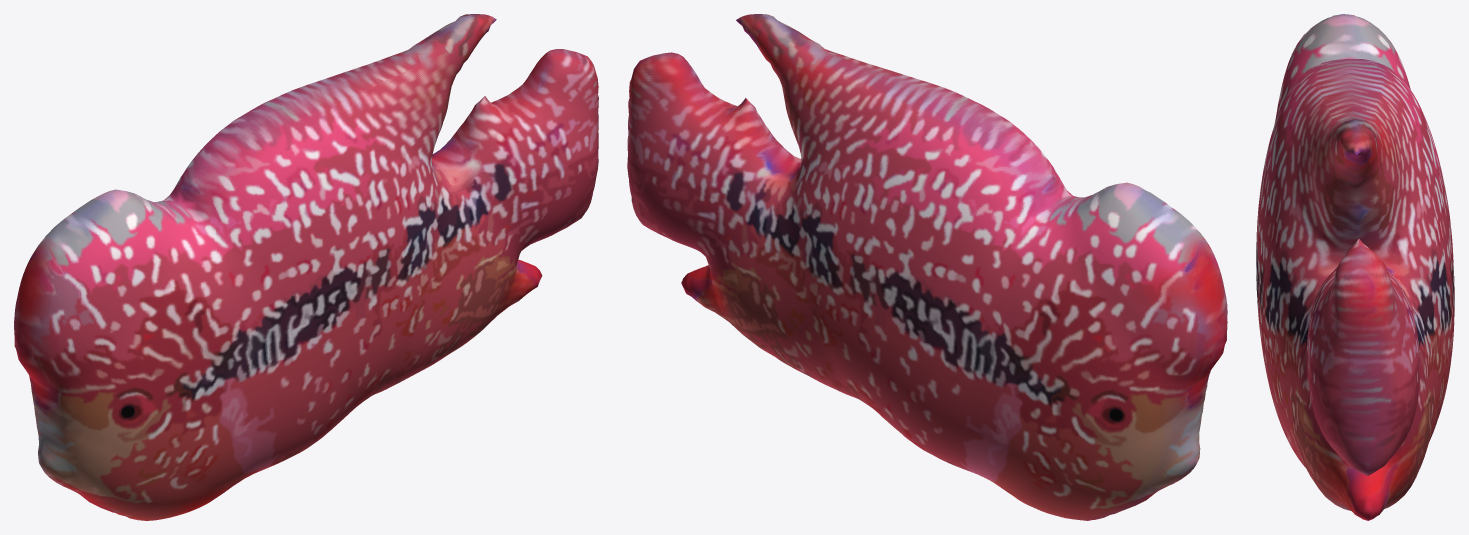
The model's file is 3dfish_1.FBX.
3 renders of one model, left to right at view 1: azimuth 30°, elevation 25°; view 2: azimuth 150°, elevation 25°; view 3: azimuth 270°, elevation 25°, orthographic. The views are drawn at different scales.
Parts seen in each view (by area): view 1: node_id31; view 2: node_id31; view 3: node_id31.
Part boxes in pixels (x1,y1,x2,y2): node_id31: (14,14,598,520); node_id31: (627,14,1227,520); node_id31: (1256,14,1454,520).
Size of the model in its own units: 0.031 by 0.0215 by 0.00752.
